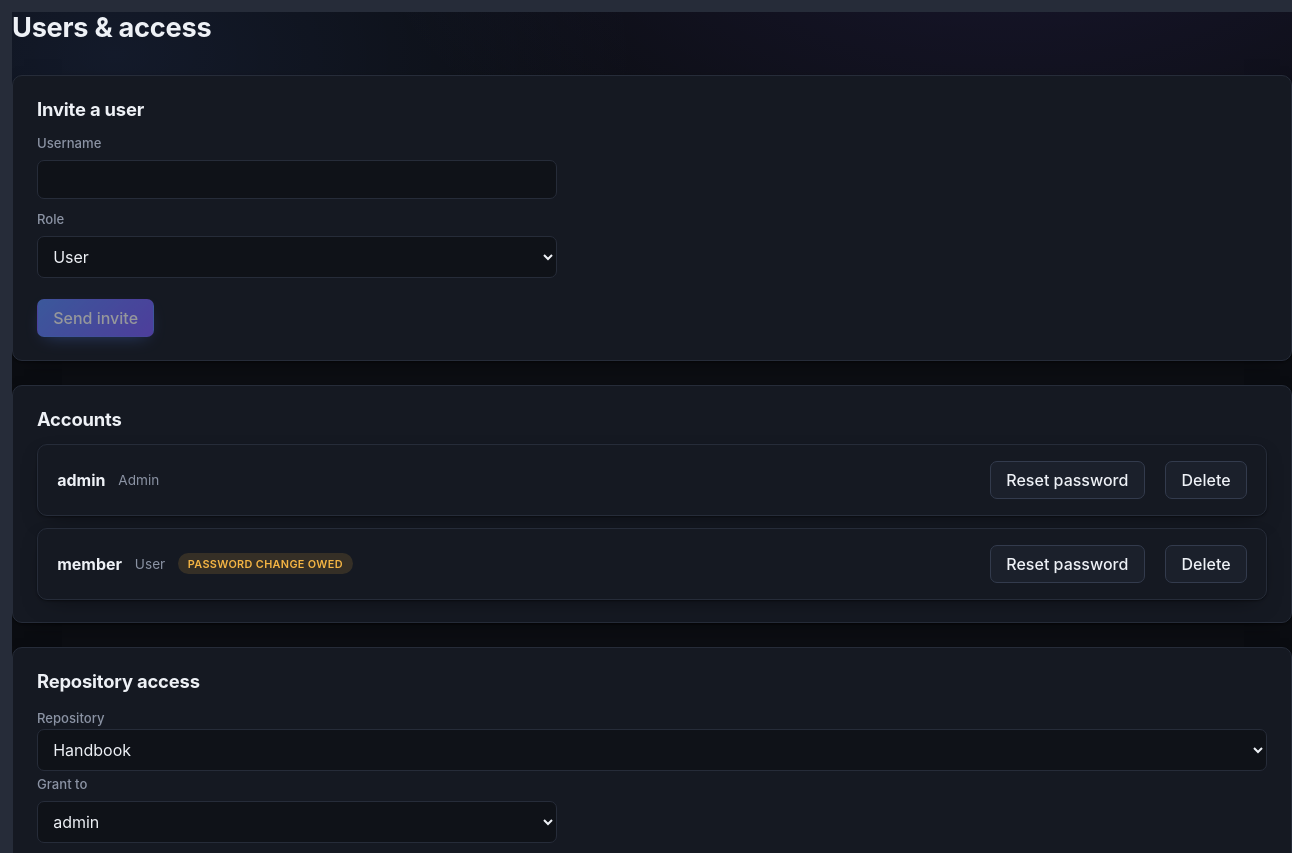
AdminUsersPage › invites a user and reveals the one-time token
The image size is (1292, 853).
Type "newbie" into the field labelled "Username" at (297, 180), box [37, 160, 557, 199]
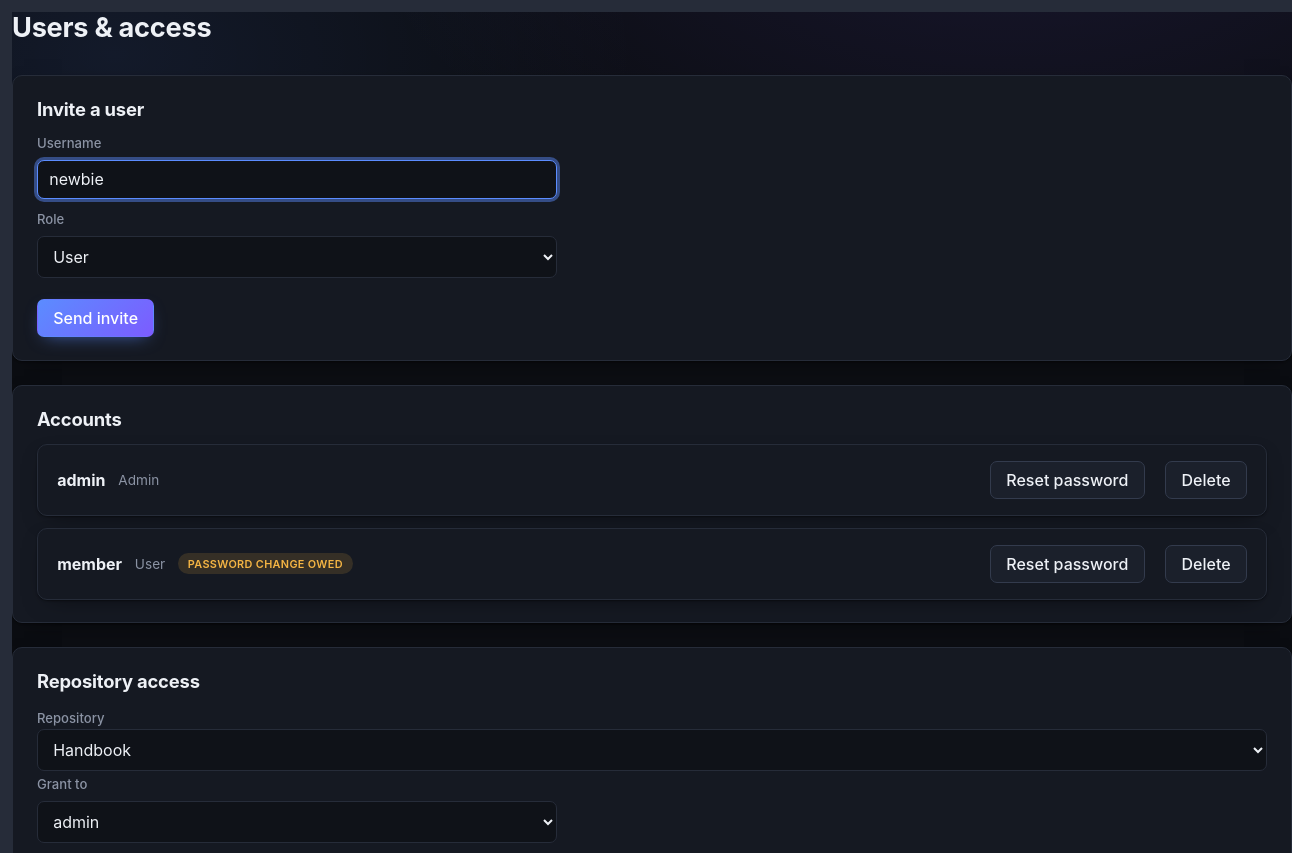
Select "User" in the dropdown labelled "Role" at (297, 257), box [37, 236, 557, 278]
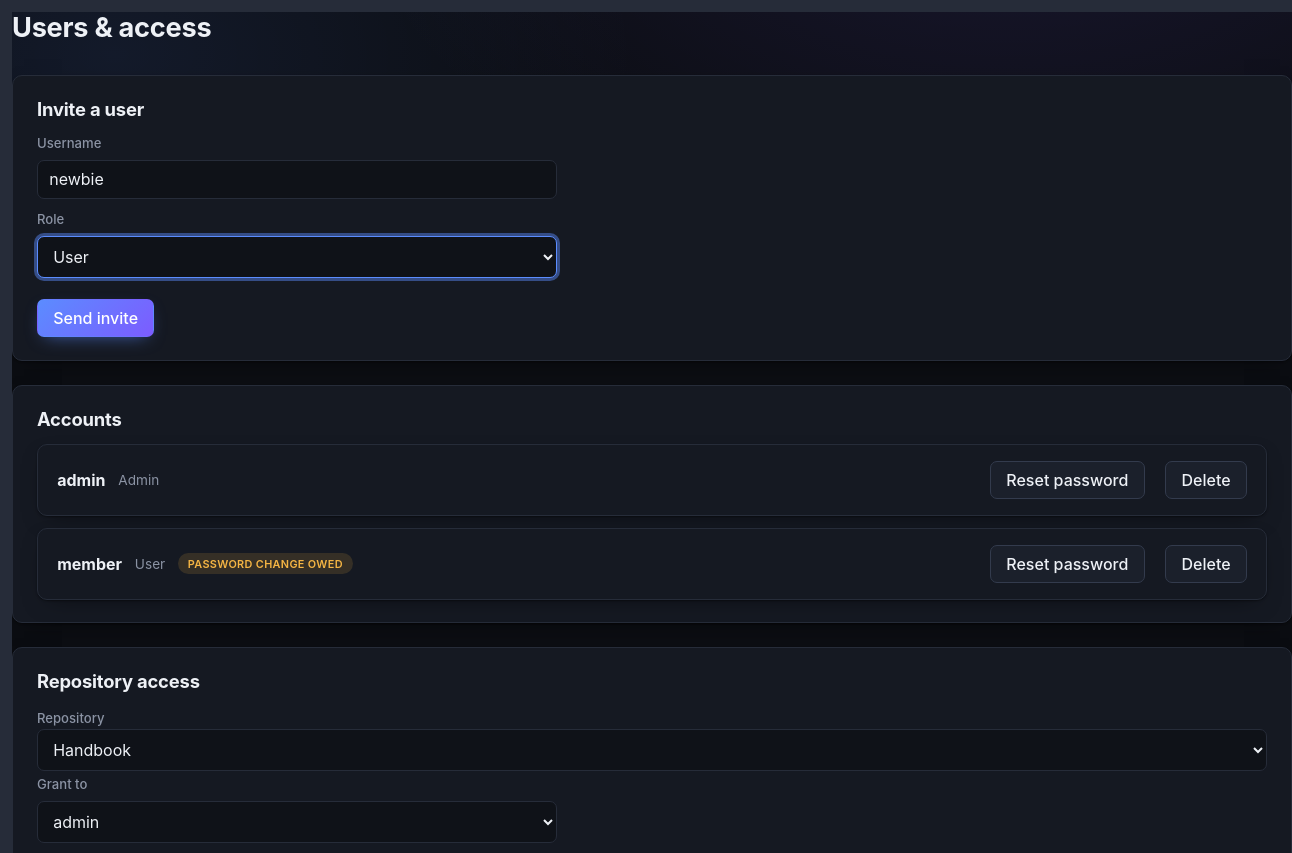
Click the button "Send invite" at (96, 318), box [37, 299, 154, 337]
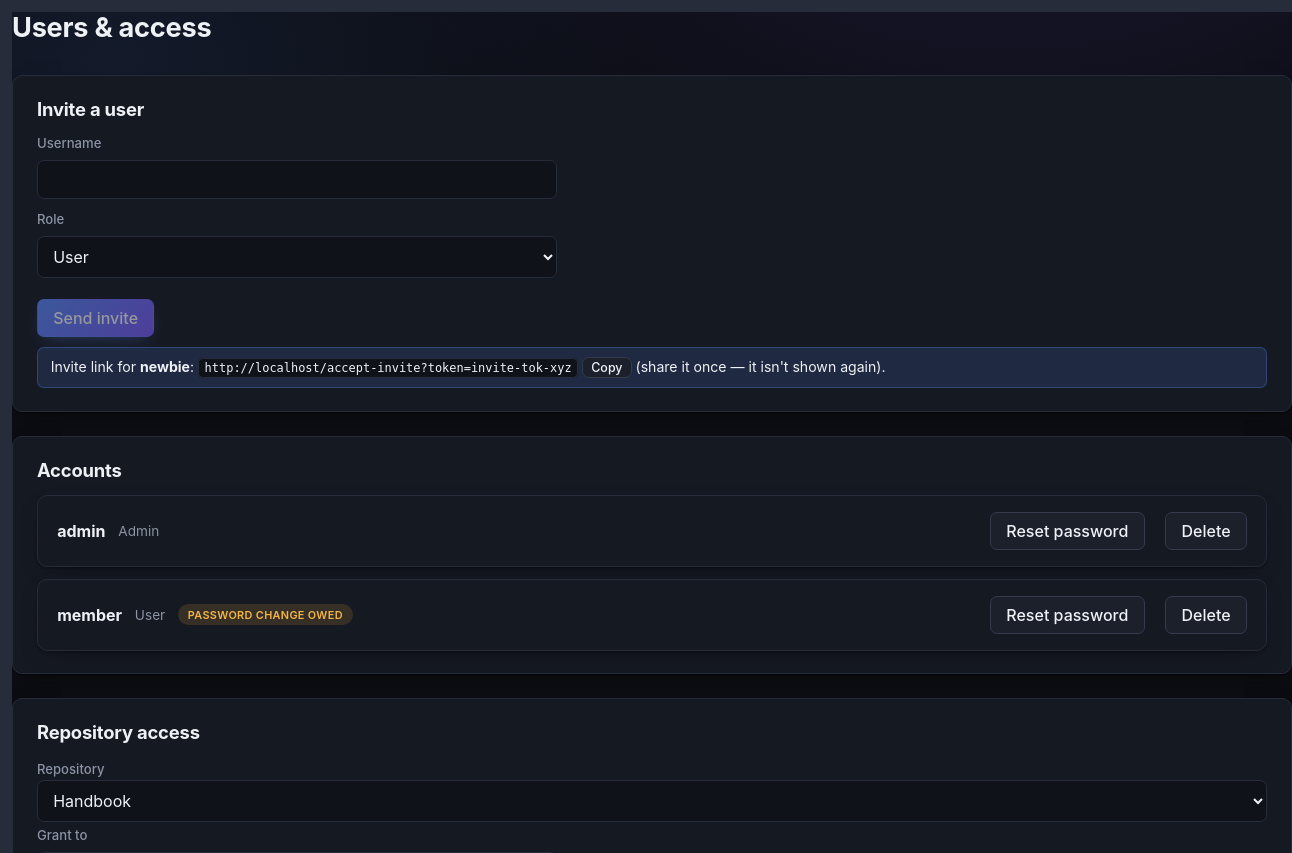
Result: the text "http://localhost/accept-invite?token=invite-tok-xyz" is shown at [198, 358, 578, 378]
